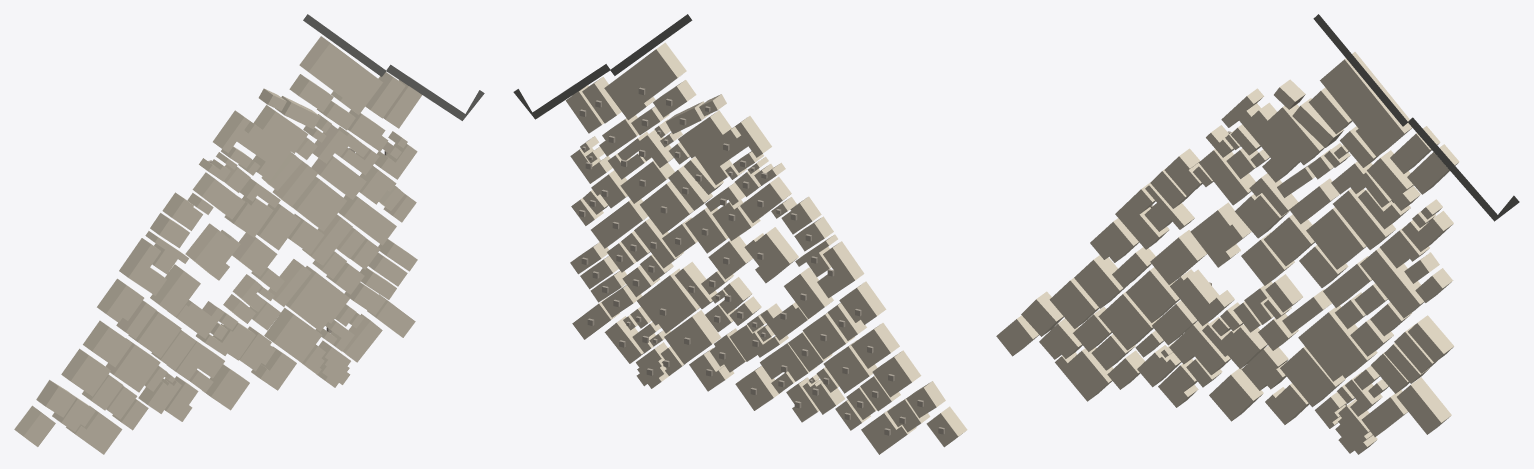
Rendered from historic-palestine-02_21_3444_3154.glb.
The picture shows the model from 3 angles, left to right: view 1: azimuth 30°, elevation 25°; view 2: azimuth 150°, elevation 25°; view 3: azimuth 330°, elevation 25°; orthographic projection. The views are drawn at different scales.
Parts seen in each view (by area): view 1: Building_.093, Building_, Building_.010, Road, Building_.007, Building_.011, Building_.084, Building_.014, Building_.064, Building_.025, Building_.015, Building_.030 (+57 smaller); view 2: Building_.093, Building_, Building_.010, Road, Building_.007, Building_.011, Building_.084, Building_.014, Building_.064, Building_.025, Building_.015, Building_.030 (+52 smaller); view 3: Building_.093, Building_, Building_.010, Road, Building_.007, Building_.064, Building_.084, Building_.016, Building_.011, Building_.025, Building_.036, Building_.021 (+64 smaller).
Part boxes in pixels (bbox=[...]): Building_.093: bbox=[213, 105, 308, 180]; Building_: bbox=[299, 36, 382, 114]; Building_.010: bbox=[286, 266, 349, 331]; Road: bbox=[303, 14, 484, 120]; Building_.007: bbox=[185, 223, 240, 280]; Building_.011: bbox=[264, 307, 322, 362]; Building_.084: bbox=[292, 177, 346, 231]; Building_.014: bbox=[119, 238, 166, 295]; Building_.064: bbox=[338, 195, 396, 245]; Building_.025: bbox=[105, 338, 160, 392]; Building_.015: bbox=[150, 264, 200, 316]; Building_.030: bbox=[61, 348, 110, 396]; Building_.093: bbox=[678, 110, 771, 184]; Building_: bbox=[604, 42, 686, 120]; Building_.010: bbox=[637, 268, 699, 333]; Road: bbox=[513, 14, 692, 119]; Building_.007: bbox=[744, 227, 798, 283]; Building_.011: bbox=[664, 310, 721, 364]; Building_.084: bbox=[640, 181, 693, 234]; Building_.014: bbox=[817, 241, 864, 298]; Building_.064: bbox=[591, 199, 648, 248]; Building_.025: bbox=[823, 340, 877, 393]; Building_.015: bbox=[784, 267, 833, 318]; Building_.030: bbox=[872, 350, 921, 397]; Building_.093: bbox=[1221, 88, 1324, 182]; Building_: bbox=[1320, 52, 1412, 156]; Building_.010: bbox=[1298, 305, 1377, 381]; Road: bbox=[1313, 14, 1519, 221]; Building_.007: bbox=[1190, 202, 1251, 267]; Building_.064: bbox=[1360, 247, 1424, 318]; Building_.084: bbox=[1306, 207, 1366, 269]; Building_.016: bbox=[1170, 269, 1234, 326]; Building_.011: bbox=[1280, 346, 1345, 407]; Building_.025: bbox=[1098, 291, 1159, 350]; Building_.036: bbox=[1055, 347, 1113, 401]; Building_.021: bbox=[1126, 267, 1179, 322].
Bounding box in the file's own units: 213 × 173 × 8.7.
